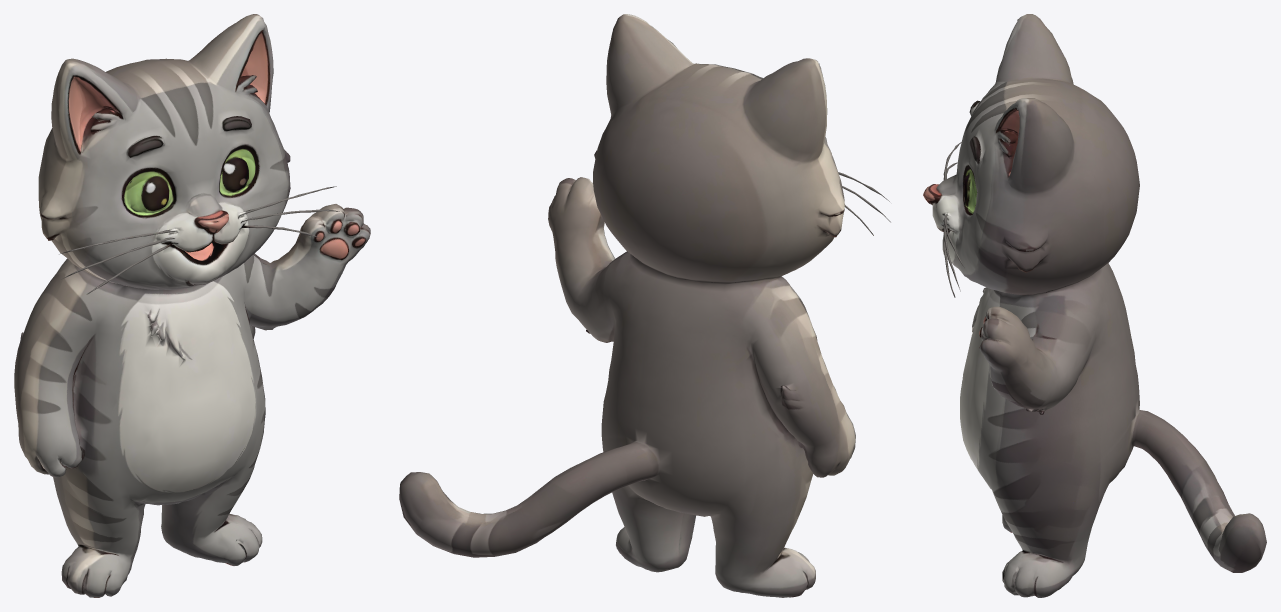
Rendered from mitsi-cat-3d.glb.
3 views of the same model, side by side, from view 1: azimuth 30°, elevation 25°; view 2: azimuth 150°, elevation 25°; view 3: azimuth 270°, elevation 25° (orthographic). The views are drawn at different scales.
Visible parts, largest first — view 1: tripo_node_acc0c48e-5f7e-4514-8e8d-4e01037c2bff; view 2: tripo_node_acc0c48e-5f7e-4514-8e8d-4e01037c2bff; view 3: tripo_node_acc0c48e-5f7e-4514-8e8d-4e01037c2bff.
Boxes of the visible parts, bbox=[...] form: tripo_node_acc0c48e-5f7e-4514-8e8d-4e01037c2bff: bbox=[14, 14, 370, 597]; tripo_node_acc0c48e-5f7e-4514-8e8d-4e01037c2bff: bbox=[399, 14, 890, 597]; tripo_node_acc0c48e-5f7e-4514-8e8d-4e01037c2bff: bbox=[923, 14, 1266, 597].
Bounding box in the file's own units: 0.6565 × 0.978 × 0.6067.
Materials: 1 (1 with a texture image).
